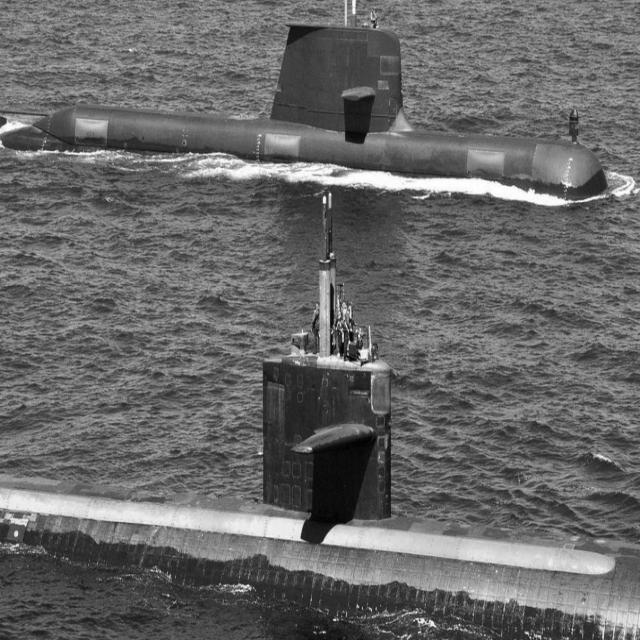submarine: (1, 175, 640, 640), (1, 1, 627, 228)
